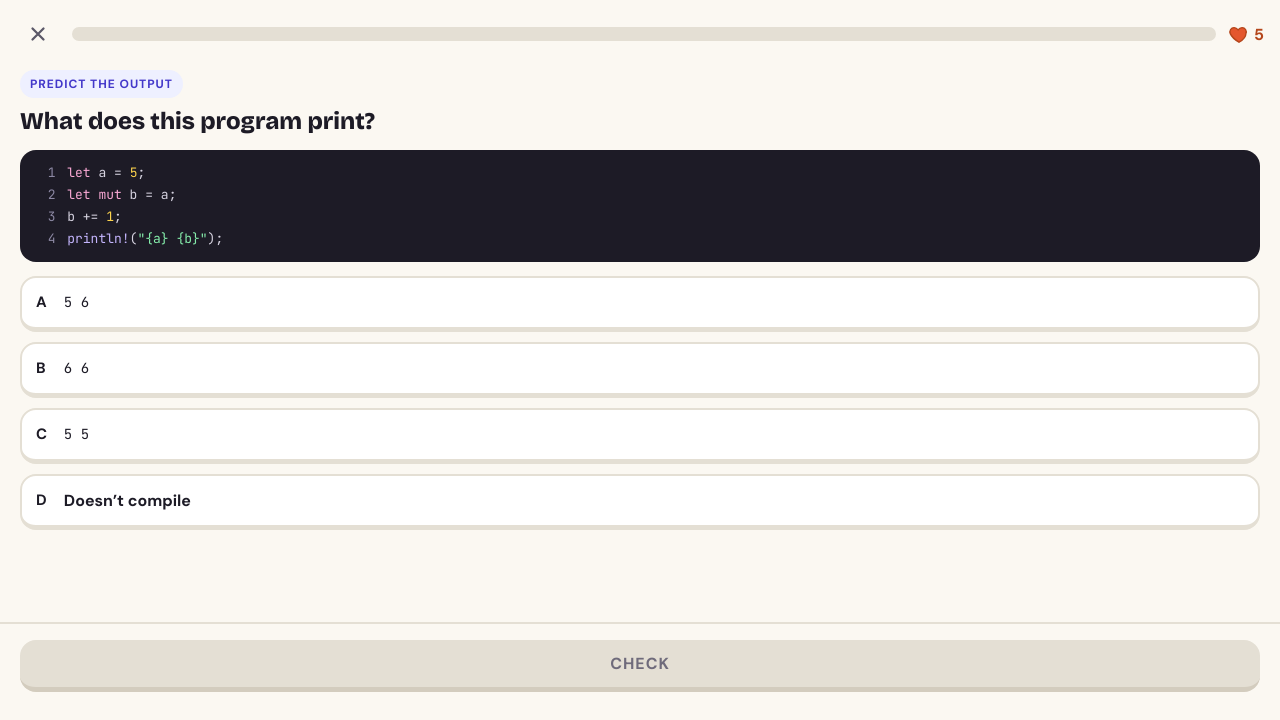
Test: Predict the output (Rust) › marks a wrong pick with text and gives the answer
Click the button named "Option B: 6 6": (41, 368) x1=20 y1=342 x2=1260 y2=398
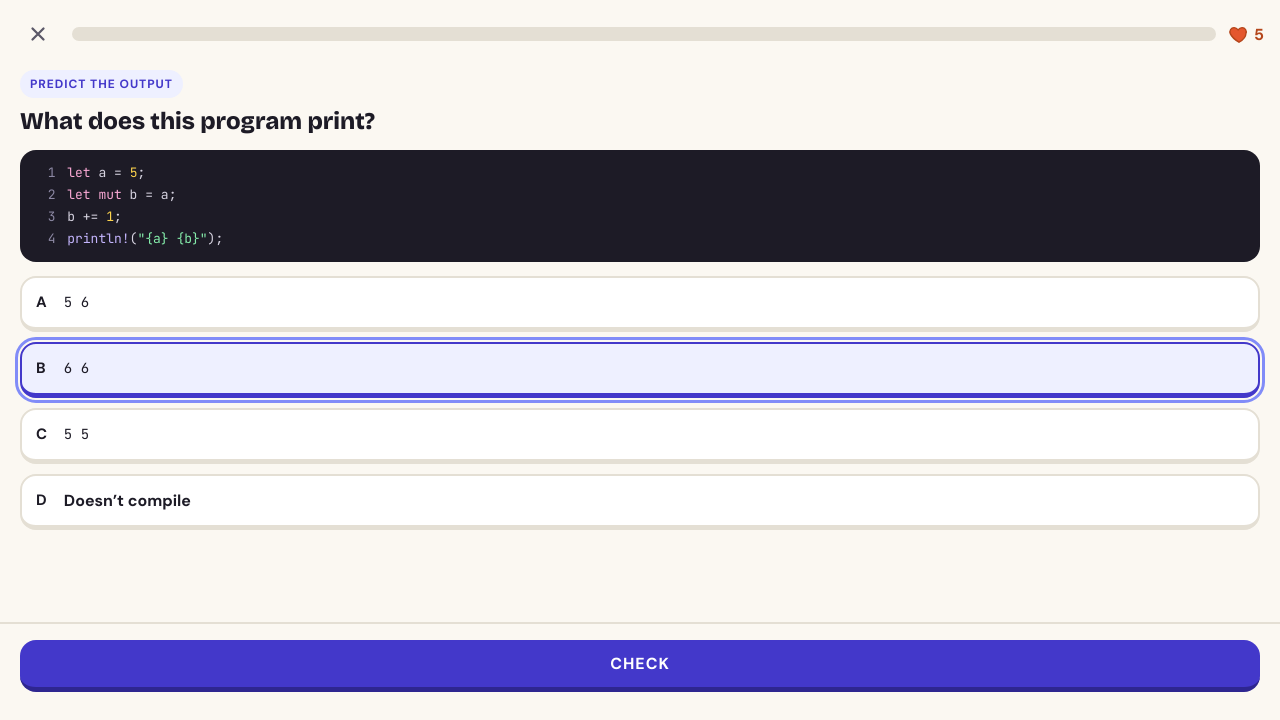
Click the button "Check": (640, 666) x1=20 y1=640 x2=1260 y2=692
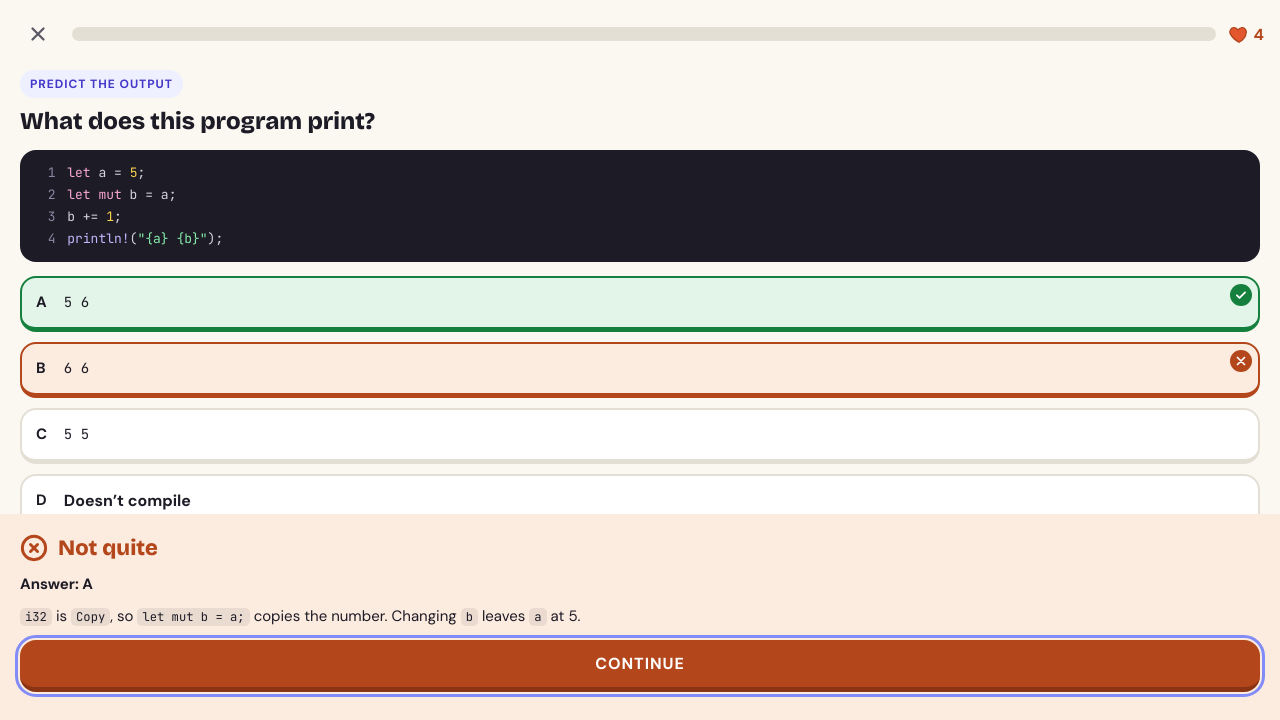
Expected: the element named "Feedback" shows "Answer: A", x1=20 y1=574 x2=93 y2=594
Expected: the button named "Option A: 5 6, correct answer" is shown, x1=20 y1=276 x2=1260 y2=332
